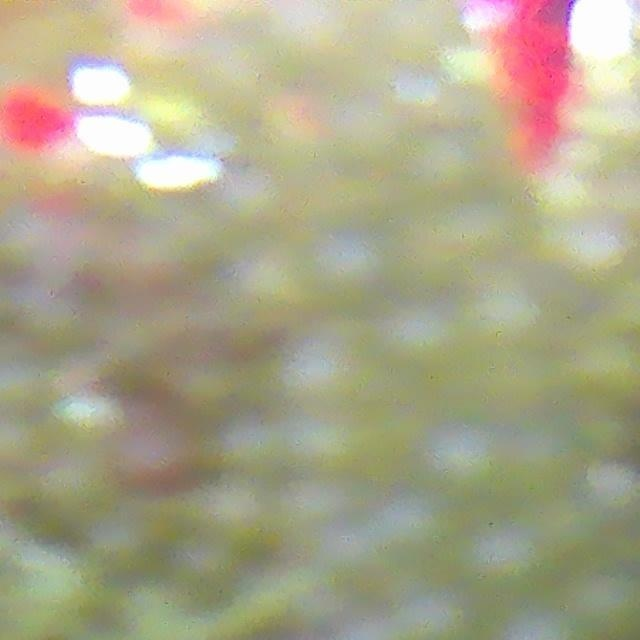SeaGrape: (283, 335, 372, 434), (301, 225, 393, 315), (422, 418, 510, 504), (374, 486, 455, 571), (383, 297, 467, 376), (463, 517, 547, 594), (572, 564, 640, 640), (398, 594, 472, 640), (584, 458, 640, 518)
